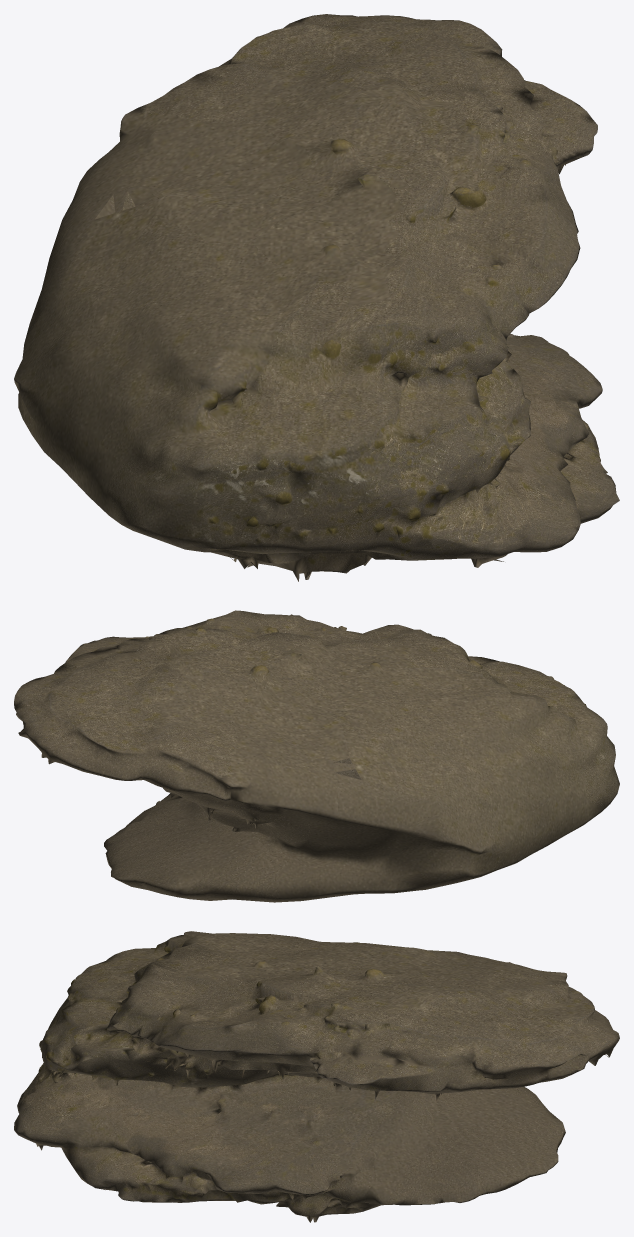
Rendered from nat-rock-c.fbx.
3 views of the same model, one above another, from view 1: azimuth 30°, elevation 25°; view 2: azimuth 150°, elevation 25°; view 3: azimuth 270°, elevation 25° (orthographic). The views are drawn at different scales.
Parts seen in each view (by area): view 1: Mesh_0; view 2: Mesh_0; view 3: Mesh_0.
Boxes of the visible parts, x1,y1,x2,y2 form: Mesh_0: [14, 14, 619, 581]; Mesh_0: [14, 610, 619, 902]; Mesh_0: [14, 931, 619, 1222].
Bounding box in the file's own units: 80.91 × 36.38 × 95.26.
1 material, 1 textured.
